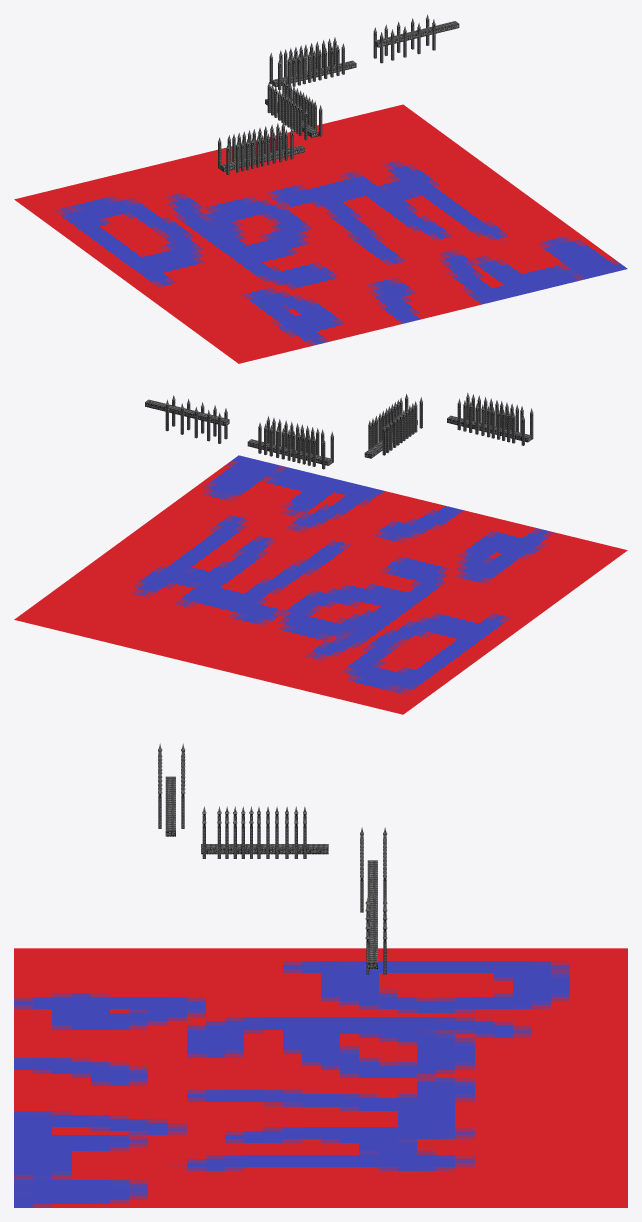
The model's file is col.obj.
3 renders of one model, top to bottom at view 1: azimuth 30°, elevation 25°; view 2: azimuth 150°, elevation 25°; view 3: azimuth 270°, elevation 25°, orthographic. The views are drawn at different scales.
Parts seen in each view (by area): view 1: Plane, Cube.003; view 2: Plane, Cube.003; view 3: Plane, Cube.001, Cube.
Part boxes in pixels (<box>): Plane: <box>14,104,627,363</box>; Cube.003: <box>374,21,459,47</box>; Plane: <box>14,455,627,714</box>; Cube.003: <box>145,399,229,426</box>; Plane: <box>14,948,627,1207</box>; Cube.001: <box>201,844,328,854</box>; Cube: <box>165,776,175,836</box>.
Size of the model in its own units: 532 by 224 by 532.
350 materials, 350 textured.
